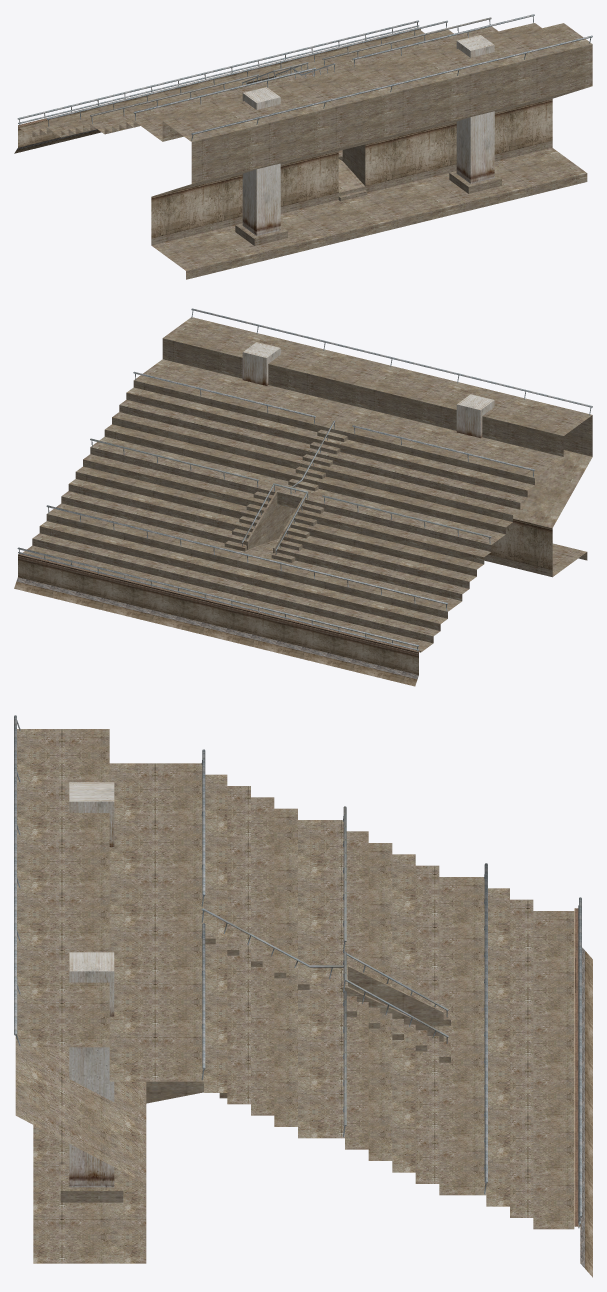
Rendered from StadiumS.glb.
3 views of the same model, one above another, from view 1: azimuth 30°, elevation 25°; view 2: azimuth 150°, elevation 25°; view 3: azimuth 270°, elevation 25° (orthographic). The views are drawn at different scales.
Visible parts, largest first — view 1: _StadiumS; view 2: _StadiumS; view 3: _StadiumS.
Part boxes in pixels (x1,y1,x2,y2): _StadiumS: (14,14,592,279); _StadiumS: (14,308,592,686); _StadiumS: (14,715,592,1277).
Size of the model in its own units: 60 by 21.5 by 46.13.
4 materials, 4 textured.
